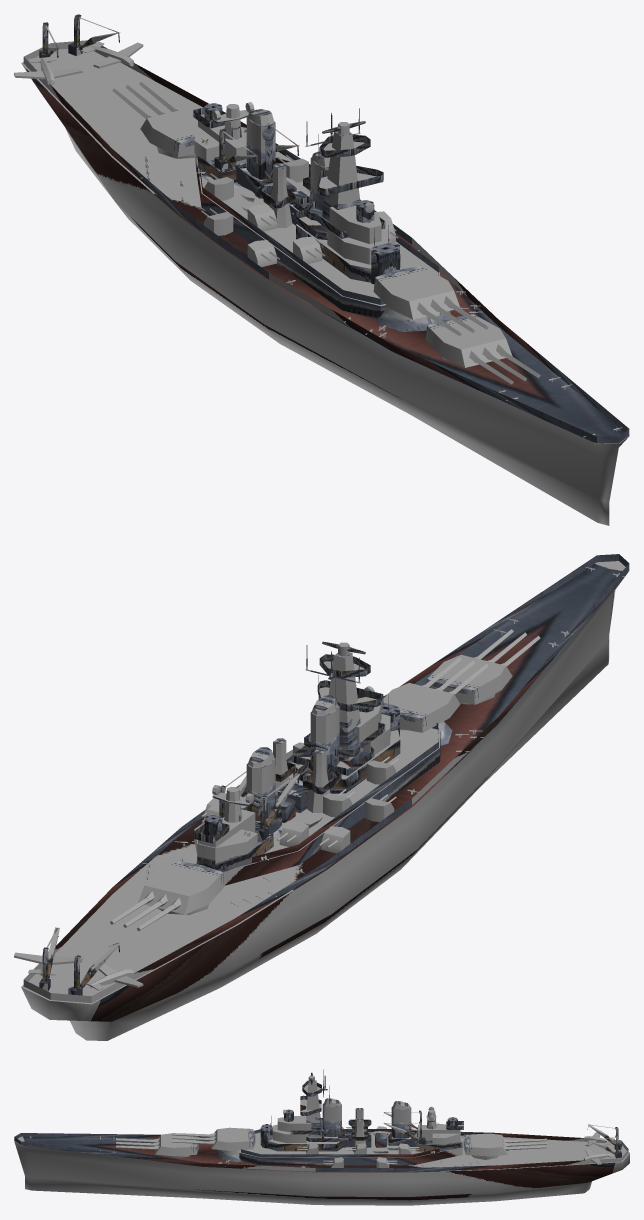
The model's file is yiahua.fbx.
3 renders of one model, top to bottom at view 1: azimuth 30°, elevation 25°; view 2: azimuth 150°, elevation 25°; view 3: azimuth 270°, elevation 25°, orthographic. The views are drawn at different scales.
Visible parts, largest first — view 1: chuanshen, polySurface192 (×3); view 2: chuanshen, polySurface192 (×3); view 3: chuanshen, polySurface192 (×3), polySurface191 (×3).
Part boxes in pixels (bbox=[...]): chuanshen: bbox=[14, 14, 629, 525]; polySurface192 (×3): bbox=[140, 107, 512, 367]; chuanshen: bbox=[14, 554, 629, 1040]; polySurface192 (×3): bbox=[138, 654, 512, 914]; chuanshen: bbox=[14, 1069, 629, 1205]; polySurface192 (×3): bbox=[155, 1127, 507, 1156]; polySurface191 (×3): bbox=[116, 1133, 546, 1149].
Bounding box in the file's own units: 29.54 × 37.89 × 187.
